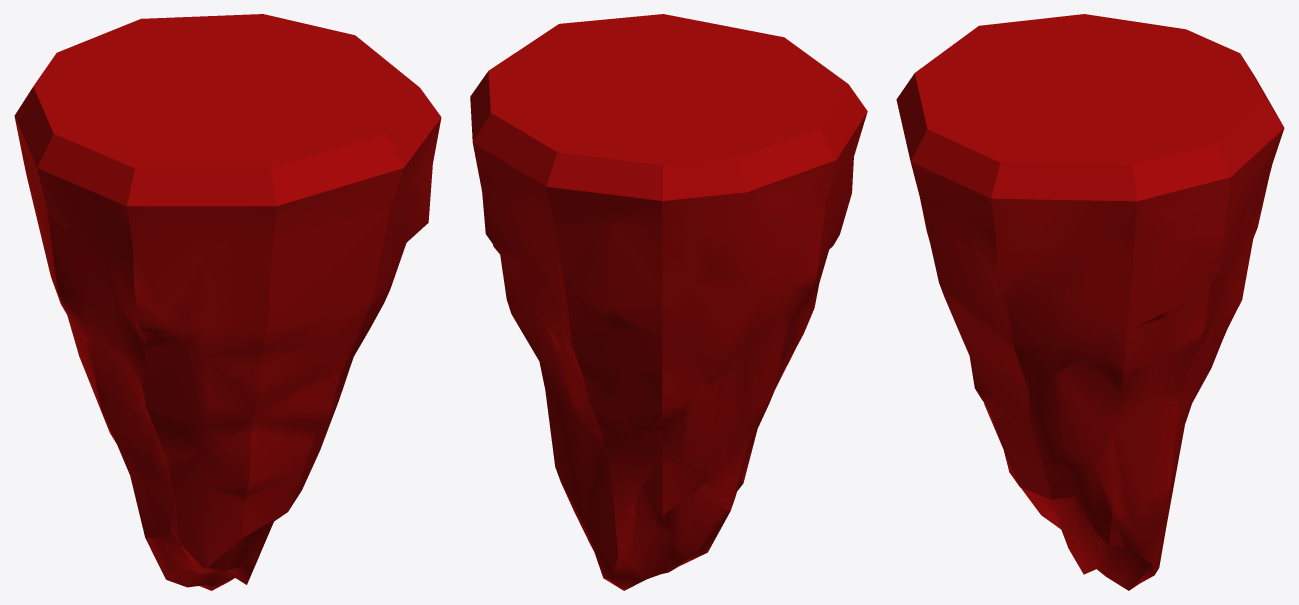
The model's file is Jump_Map_Tiles_8.fbx.
3 views of the same model, side by side, from view 1: azimuth 30°, elevation 25°; view 2: azimuth 150°, elevation 25°; view 3: azimuth 270°, elevation 25° (orthographic). The views are drawn at different scales.
Visible parts, largest first — view 1: Jump_Map_Tiles_8; view 2: Jump_Map_Tiles_8; view 3: Jump_Map_Tiles_8.
Boxes of the visible parts, <box> form: Jump_Map_Tiles_8: <box>14,14,441,590</box>; Jump_Map_Tiles_8: <box>470,14,867,590</box>; Jump_Map_Tiles_8: <box>896,14,1284,590</box>.
Bounding box in the file's own units: 4 × 5.45 × 3.93.
